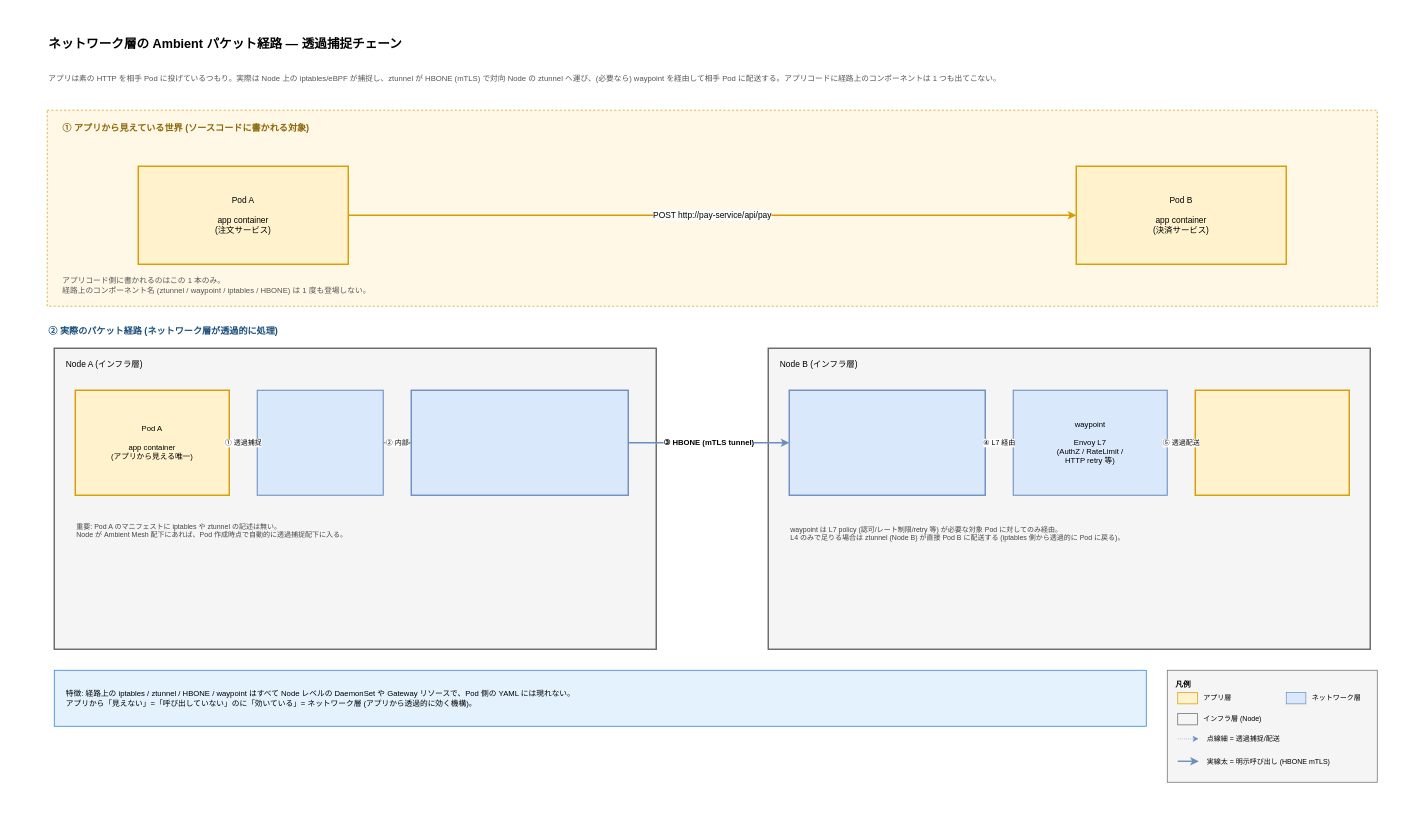
Image size: 1424x829. Some labels were removed from this diagram. The shapes that lost their labels are listed below. From the top down, each one's centre as x and y in pixels, then its label:
At point (319, 442): "iptables / eBPF Pod out を :15001 に redirect (透過捕捉点)".
At point (519, 442): "ztunnel (Node A) DaemonSet HBONE proxy :15008 mTLS 暗号化".
At point (887, 442): "ztunnel (Node B) DaemonSet HBONE terminate mTLS 復号".
At point (1272, 442): "Pod B app container (アプリから見える唯一)".
